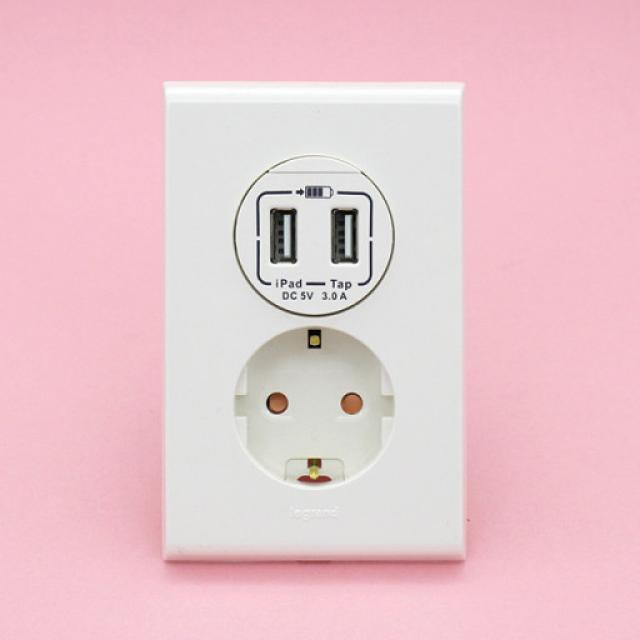typeb: (151, 65, 472, 576)
